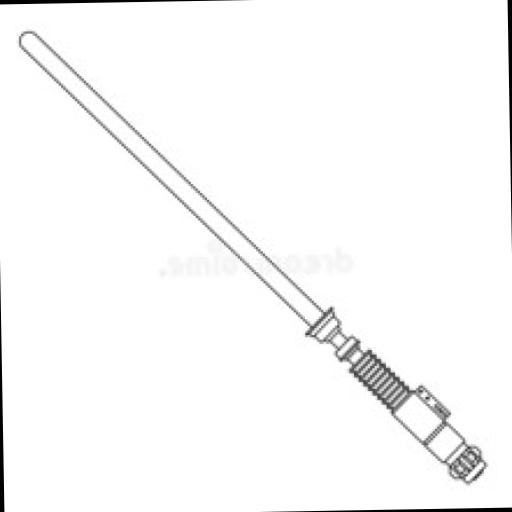lightsaber: (16, 20, 490, 492)
